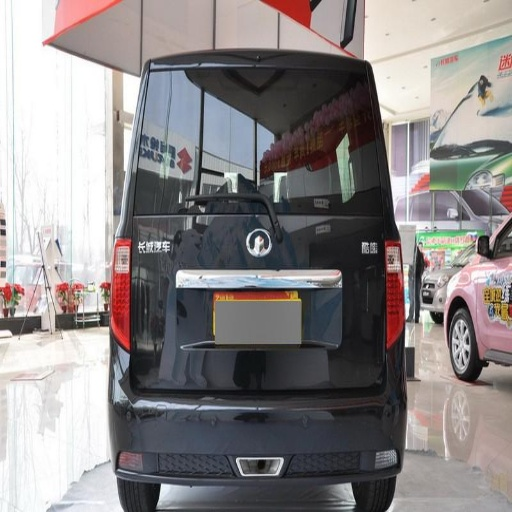back_bumper: (109, 383, 239, 484), (299, 370, 405, 470)
tailgate: (196, 197, 333, 259), (238, 349, 354, 392)
trunk: (121, 259, 382, 460)
